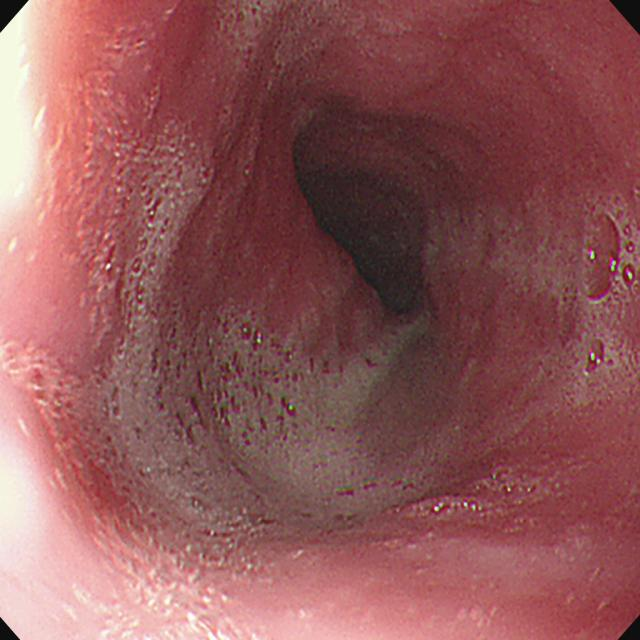E: (302, 174, 426, 310)
T: (92, 315, 445, 554), (105, 123, 218, 312), (479, 196, 640, 314), (203, 2, 357, 86), (562, 316, 640, 405)
